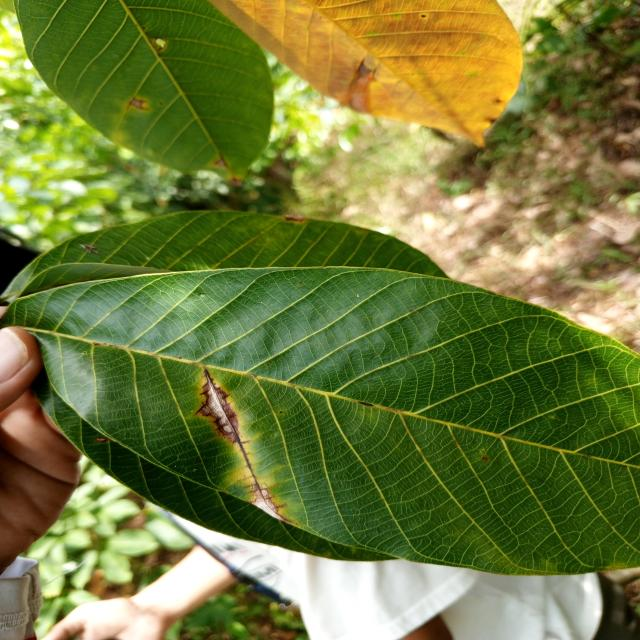Corynespora: (193, 369, 240, 444), (237, 439, 267, 493)
Leaf-Blight: (251, 490, 284, 520)
